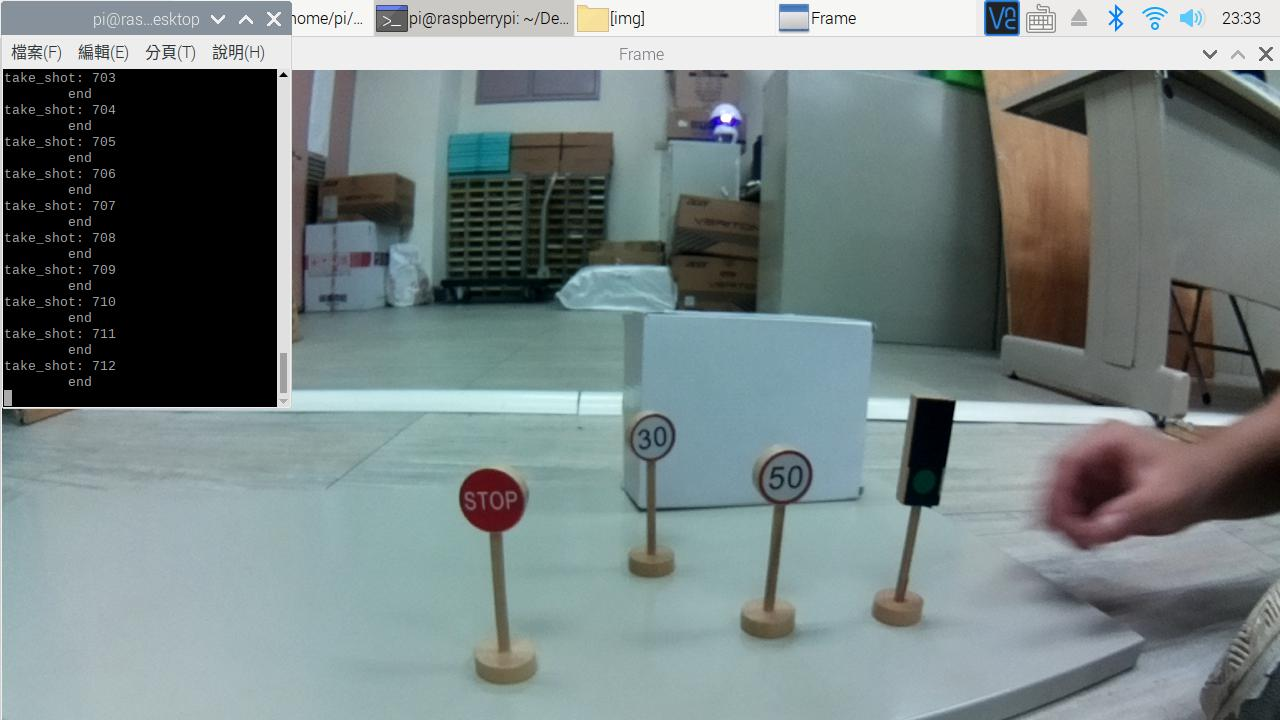Green: (899, 383, 959, 518)
Speed30: (617, 408, 683, 472)
Speed50: (746, 446, 820, 525)
Stop: (444, 456, 547, 543)
